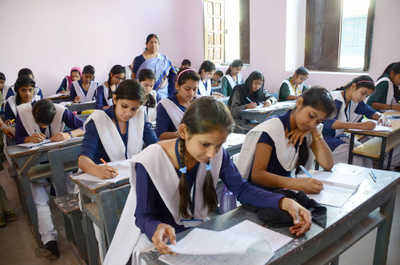invigilator: (136, 30, 170, 102)
student: (134, 105, 264, 247), (240, 93, 349, 170), (81, 82, 162, 172), (5, 94, 76, 167), (325, 75, 384, 130), (223, 72, 272, 115), (192, 58, 219, 109)
